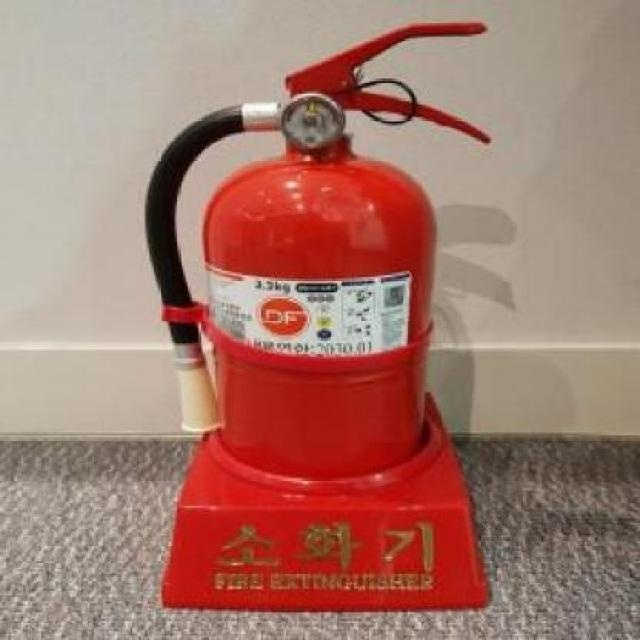fire extinguisher: (144, 22, 491, 481)
